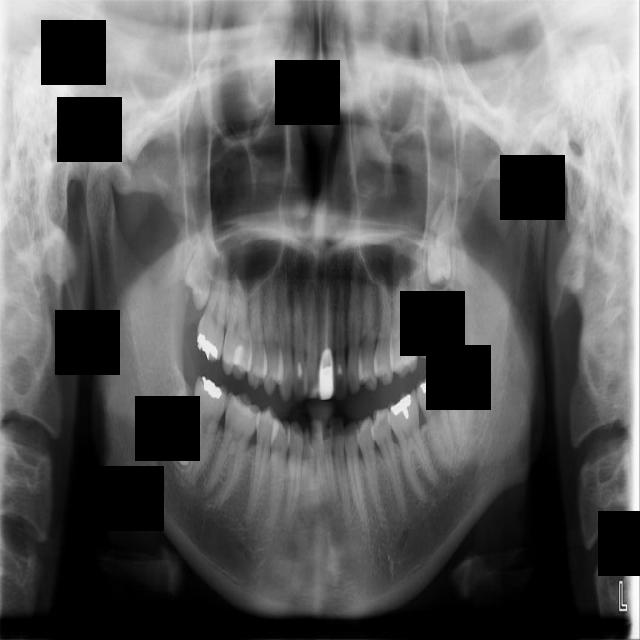3M ESPE Implant: (178, 208, 227, 312)
52: (405, 365, 461, 418), (182, 373, 235, 426), (385, 388, 421, 440), (221, 323, 253, 381), (412, 306, 446, 360), (196, 308, 225, 362), (317, 347, 335, 400), (293, 355, 309, 402), (333, 357, 347, 399)
73: (319, 283, 339, 363), (598, 591, 610, 605)
BioHorizons Implant: (410, 247, 444, 360)
BioLife Implant: (423, 193, 459, 287)
Biomet 3i Implant: (441, 362, 477, 452)
Blue Sky Bio Implant: (413, 365, 458, 472)
Caries: (195, 246, 230, 363)
Implant: (183, 374, 231, 489)
Keystone Dental Implant: (146, 403, 194, 464)
